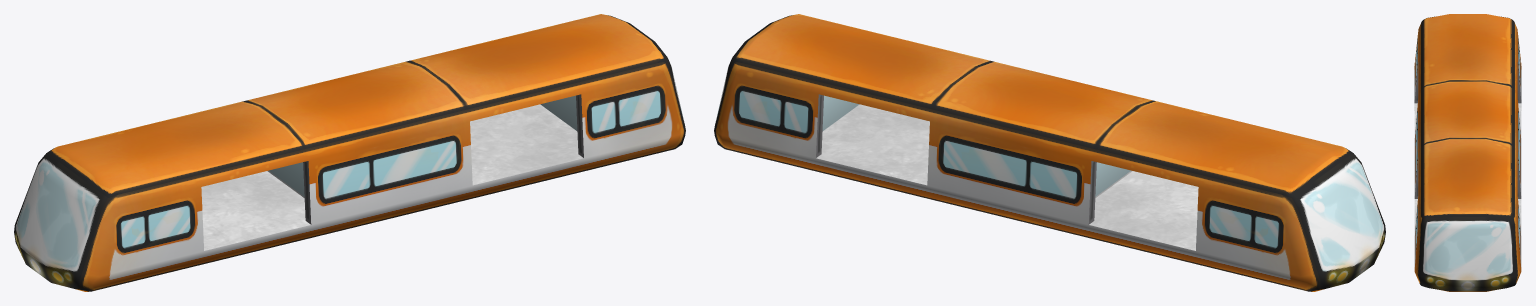
File: metro.fbx
The picture shows the model from 3 angles, left to right: view 1: azimuth 30°, elevation 25°; view 2: azimuth 150°, elevation 25°; view 3: azimuth 270°, elevation 25°; orthographic projection. The views are drawn at different scales.
Visible parts, largest first — view 1: polySurface2; view 2: polySurface2; view 3: polySurface2.
Boxes of the visible parts, left/top/right/bottom form: polySurface2: left=14, top=14, right=685, bottom=291; polySurface2: left=714, top=14, right=1385, bottom=291; polySurface2: left=1414, top=14, right=1521, bottom=291.
Size of the model in its own units: 1165 by 194 by 235.
